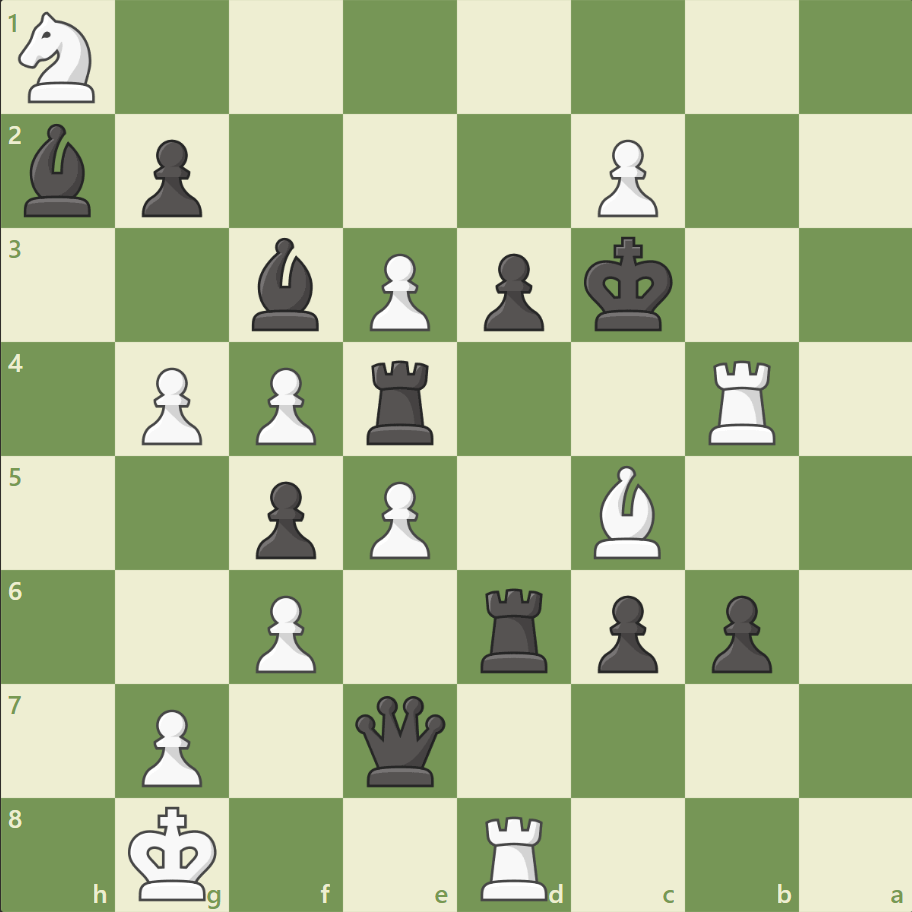B: (585, 460, 669, 563)
K: (124, 798, 224, 906)
N: (11, 7, 108, 110)
P: (133, 700, 208, 791), (247, 586, 322, 677), (247, 359, 322, 450), (133, 359, 208, 450), (361, 473, 435, 564), (361, 246, 435, 337), (588, 132, 662, 223)
R: (473, 806, 556, 904), (700, 352, 783, 449)
b: (244, 233, 328, 336), (17, 120, 101, 222)
k: (579, 231, 679, 339)
p: (701, 586, 776, 677), (247, 473, 322, 564), (474, 246, 549, 337), (133, 132, 208, 223), (588, 586, 662, 677)
q: (351, 690, 450, 789)
r: (473, 579, 556, 676), (360, 352, 442, 449)
